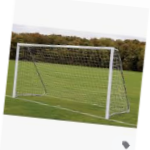goals: (11, 41, 131, 116)
